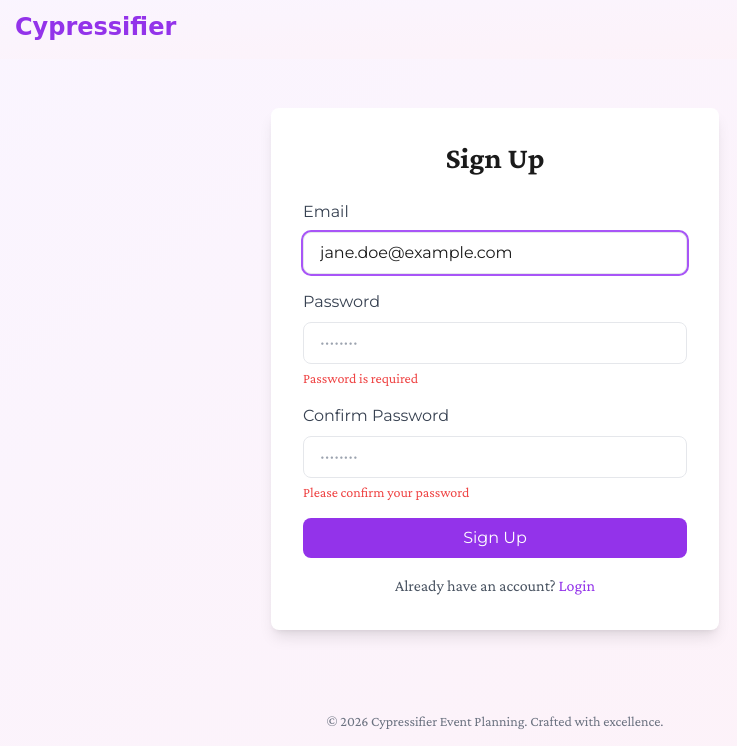
Scenario: User Experience Flow › User Authentication › should error with short password
Clear the field with test id "signup-email-input" at (495, 253), box top-left (303, 232), bottom-right (687, 274)
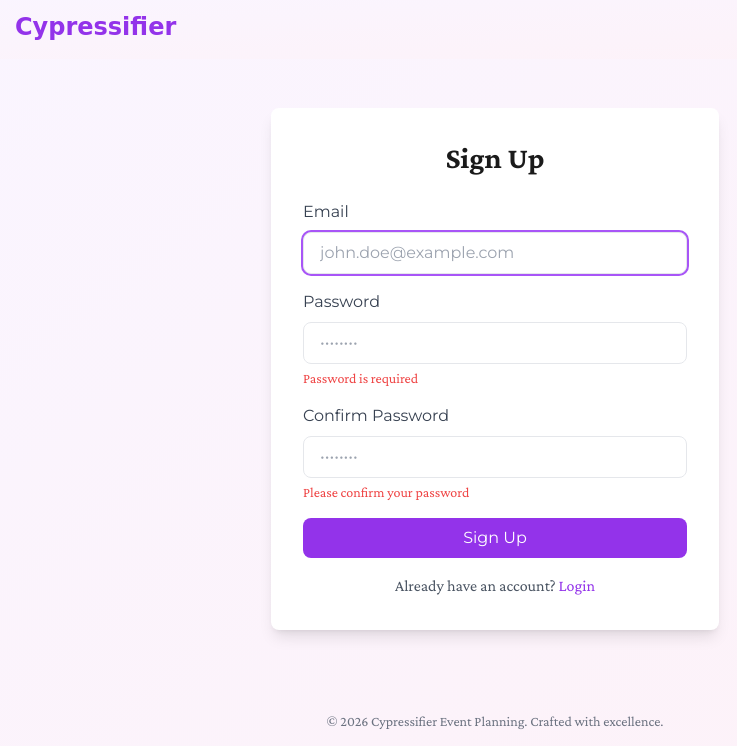
Expected: the password field with test id "signup-password-input" is shown, top-left (303, 322), bottom-right (687, 364)
Expected: the password field with test id "signup-confirm-password-input" is shown, top-left (303, 436), bottom-right (687, 478)
Type "jane.doe@example.com" into the field with test id "signup-email-input" at (495, 253), box top-left (303, 232), bottom-right (687, 274)
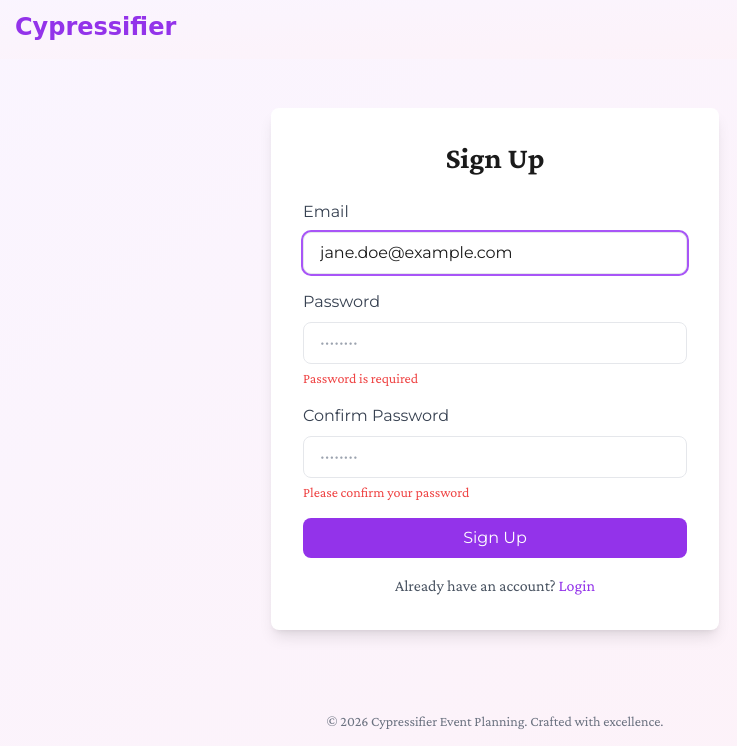
Type "short" into the password field with test id "signup-password-input" at (495, 343), box top-left (303, 322), bottom-right (687, 364)
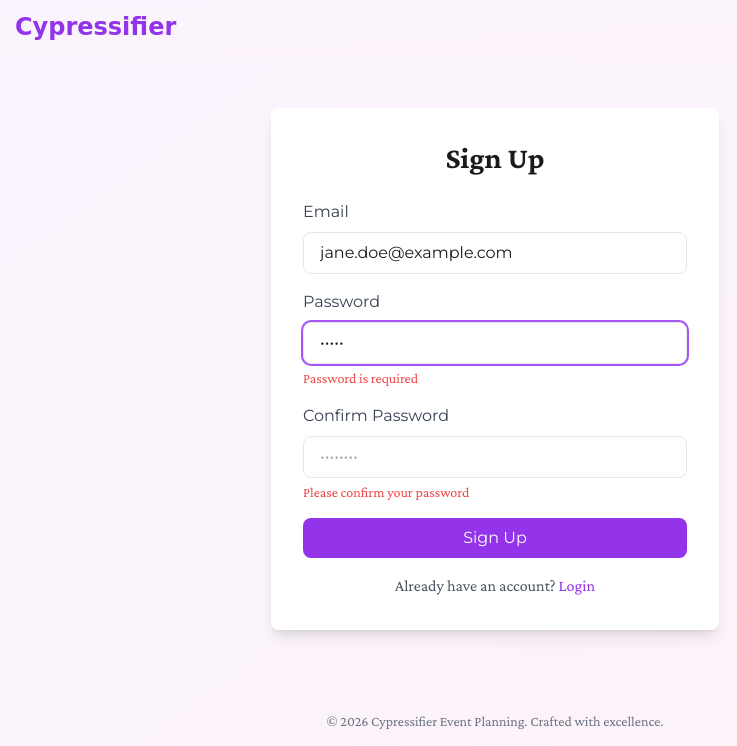
Type "short" into the password field with test id "signup-confirm-password-input" at (495, 457), box top-left (303, 436), bottom-right (687, 478)
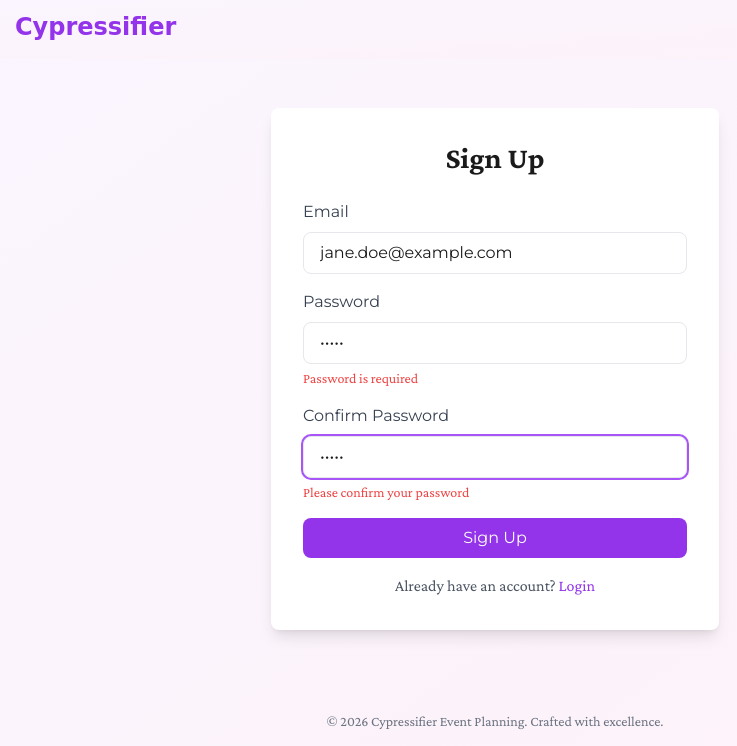
Submit the form, box top-left (303, 200), bottom-right (687, 558)
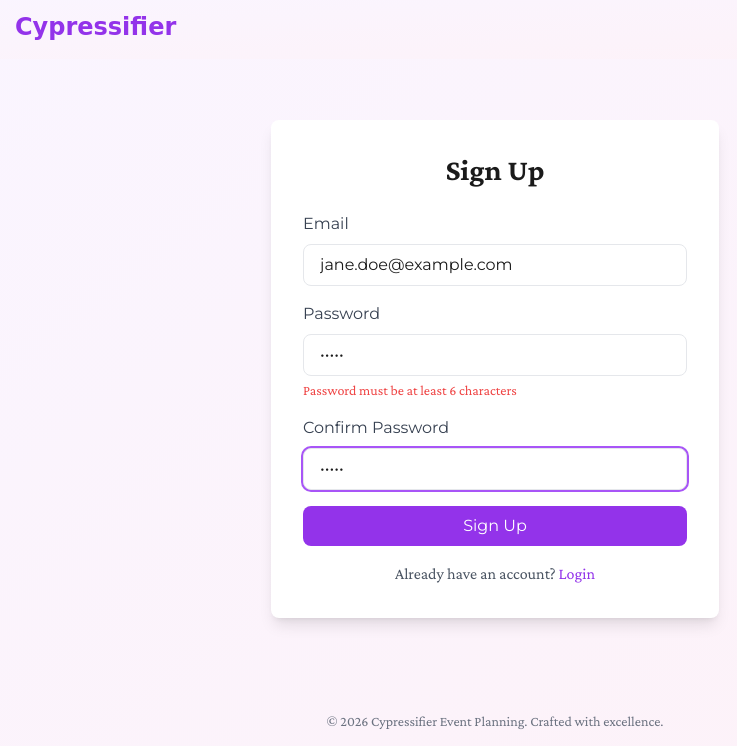
Result: the text with test id "signup-password-error" reads "Password must be at least 6 characters" at top-left (303, 382), bottom-right (517, 398)
